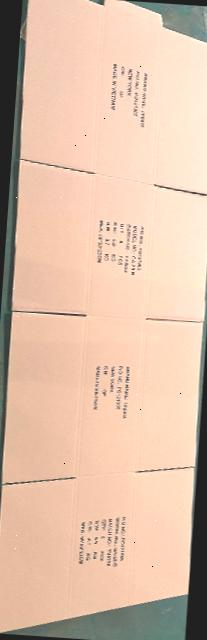box: (0, 0, 207, 633)
